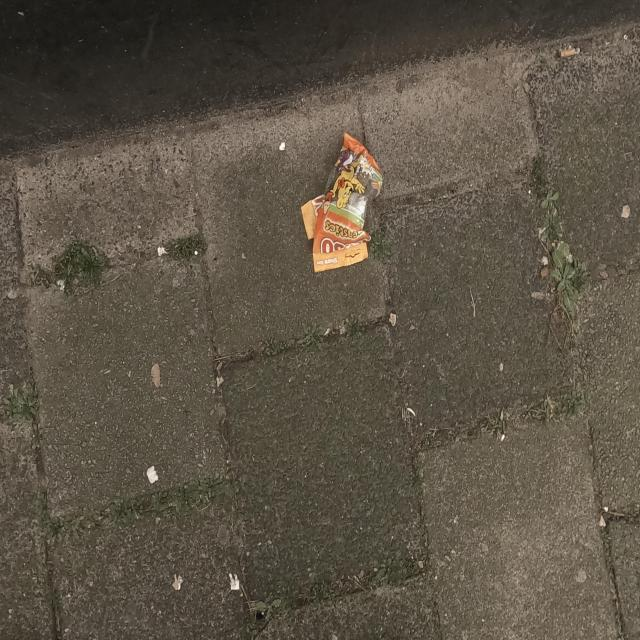Plastic: (301, 130, 385, 274)
